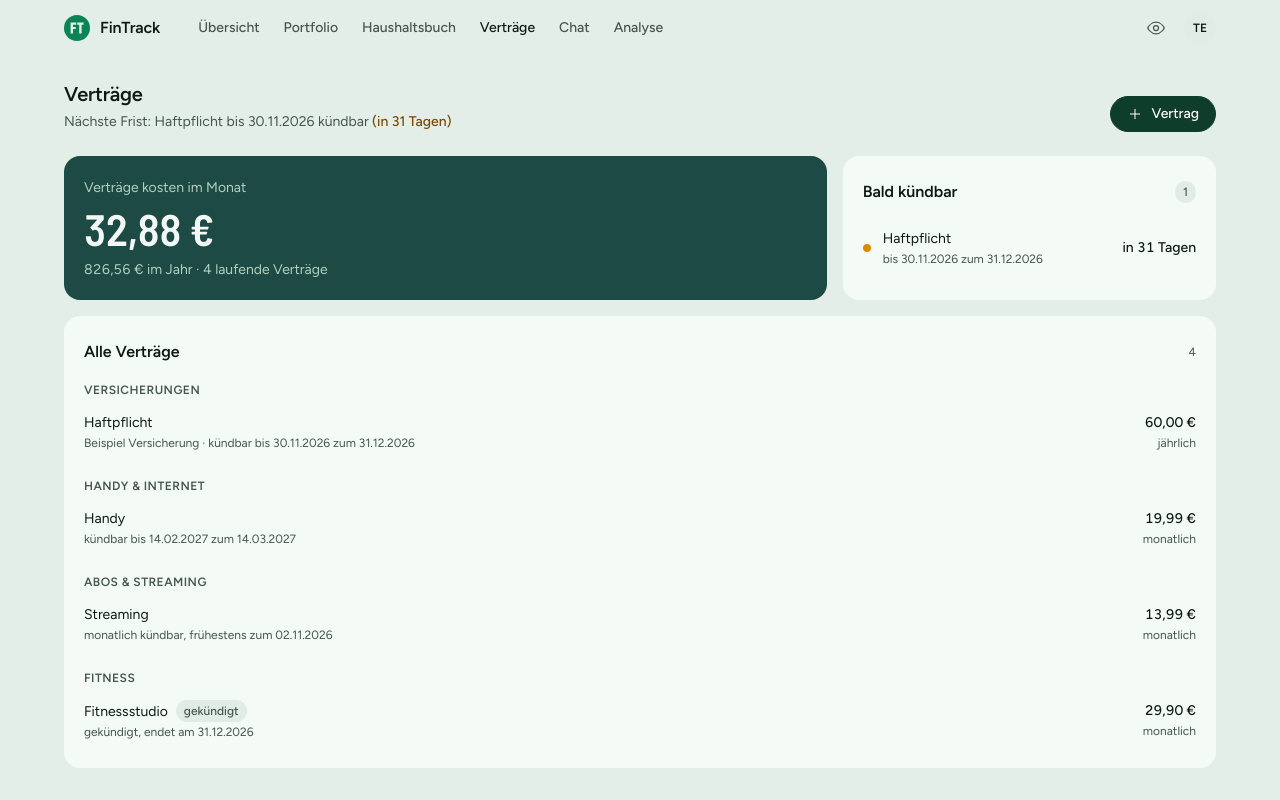
Test: Verträge › markiert einen Vertrag als gekündigt, zum nächstmöglichen Termin vorgeschlagen
Click the button "Haftpflicht" at [118, 422], box [84, 404, 1196, 460]
(page scrolled)
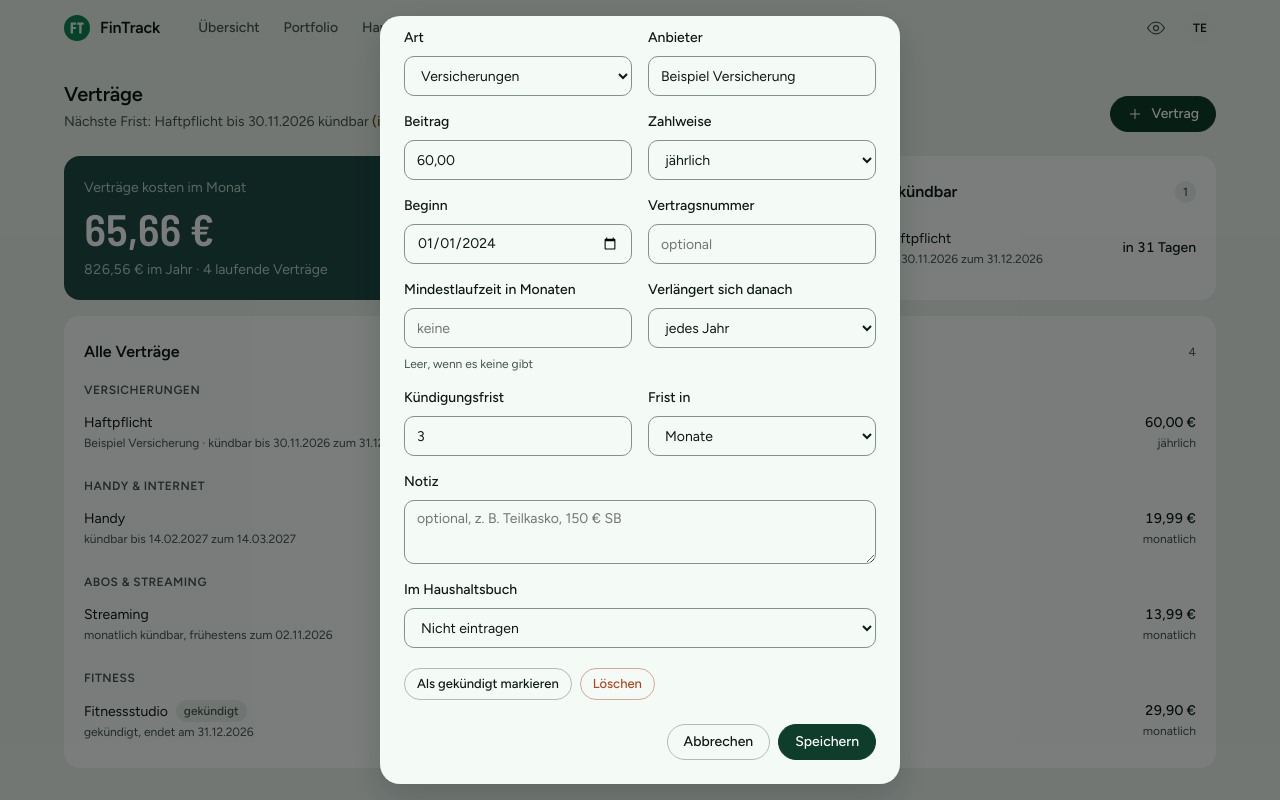
Click the button "Als gekündigt markieren" at [488, 684], box [404, 668, 572, 700]
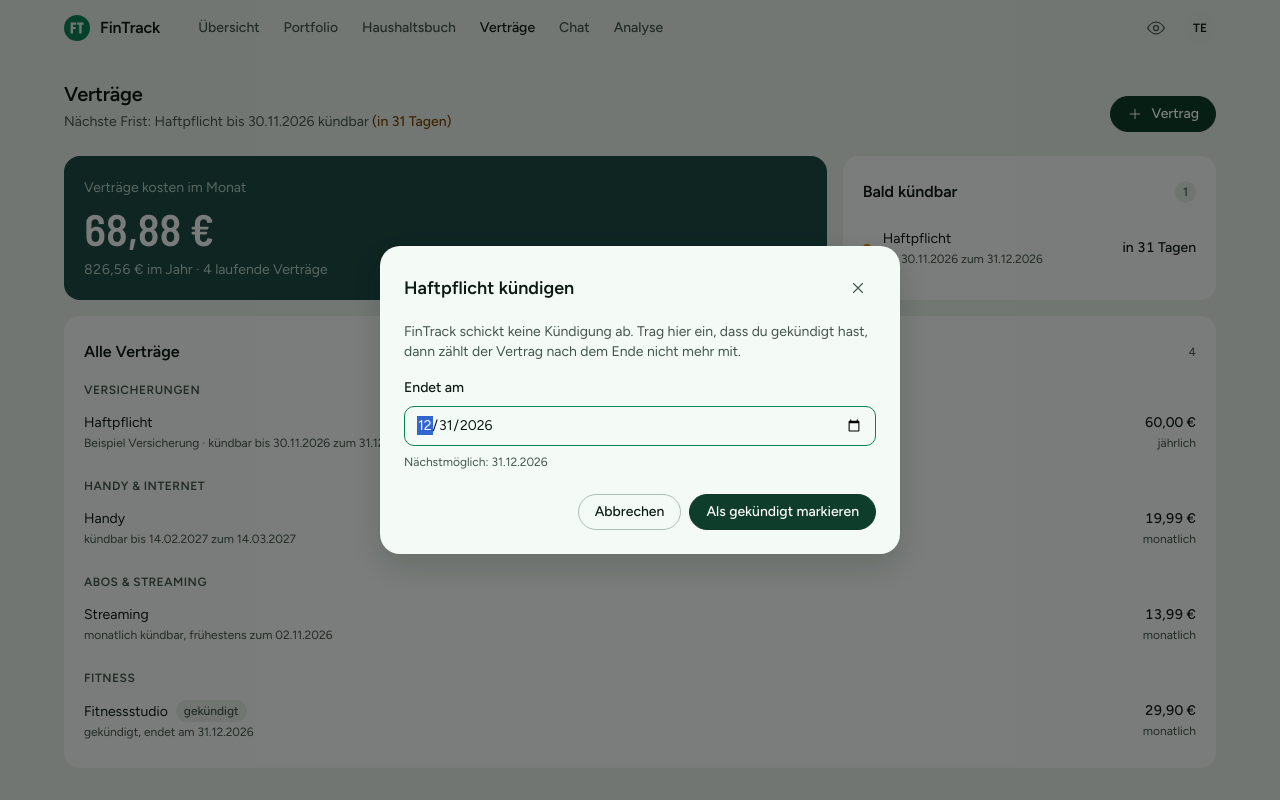
Result: the date field labelled "Endet am" holds "2026-12-31" at [404, 406, 876, 446]
Result: the dialog "Haftpflicht kündigen" shows "Nächstmöglich: 31.12.2026" at [404, 455, 548, 469]
Click the button "Als gekündigt markieren" at [783, 512], box [689, 494, 876, 530]
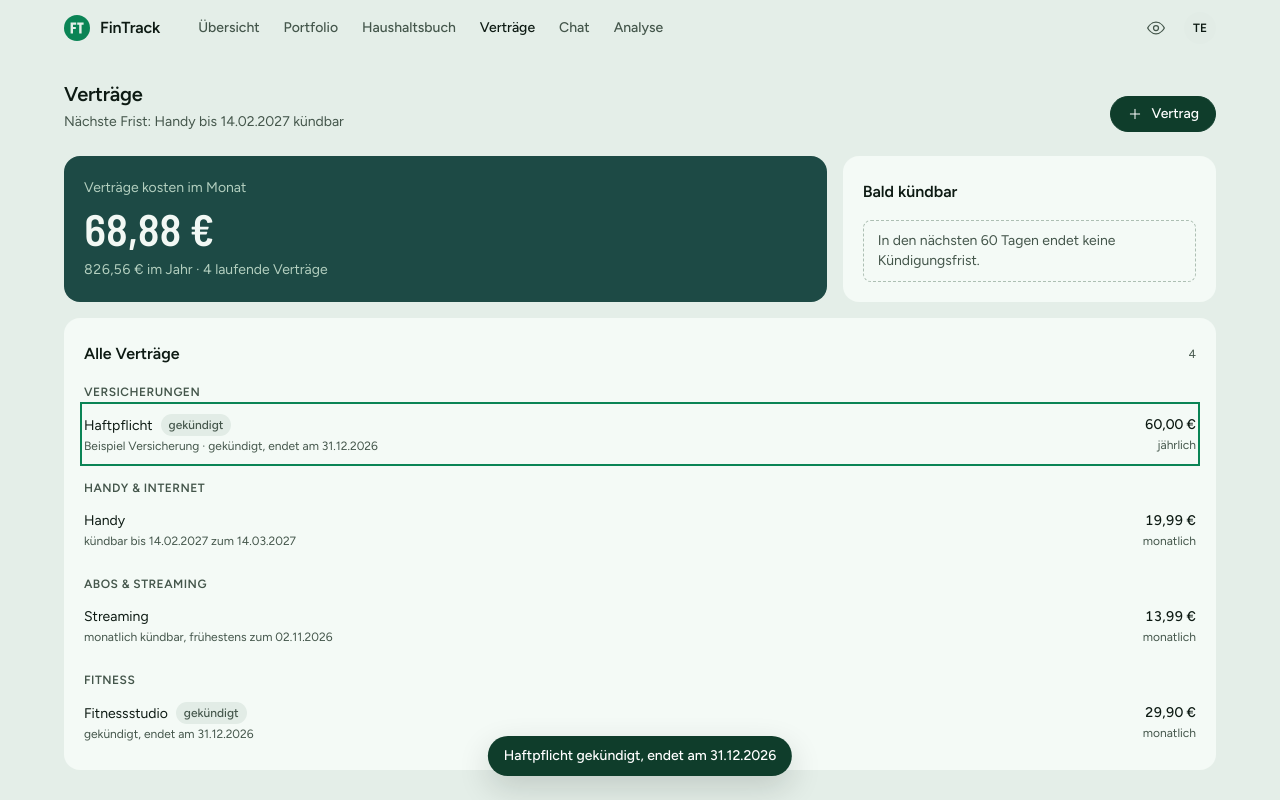
Expected: the text "gekündigt" is shown 2 times, [161, 414, 231, 436]; [176, 702, 247, 724]
Result: the text "Haftpflicht gekündigt, endet am 31.12.2026" is shown at [488, 736, 792, 776]
